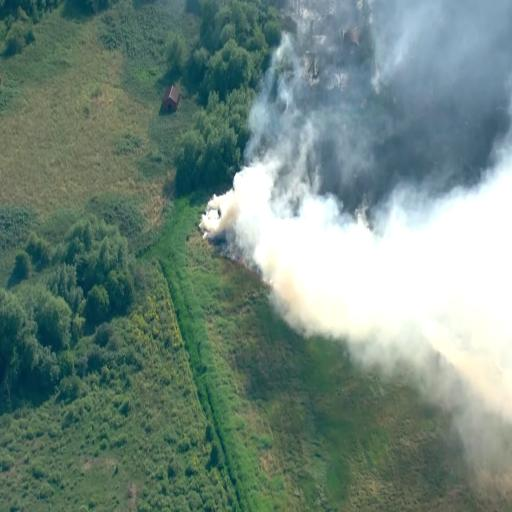smoke: (361, 222, 426, 351)
